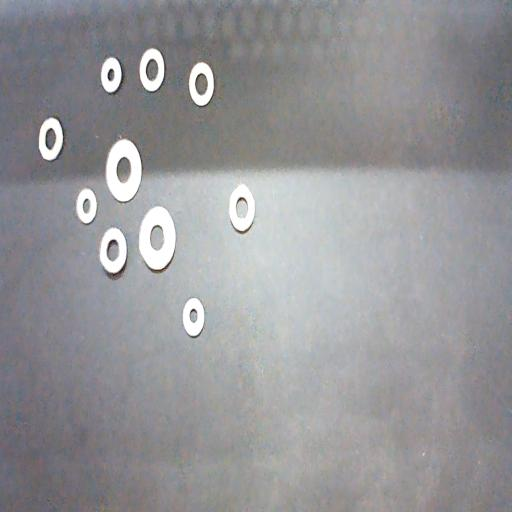washer: (139, 206, 176, 272), (106, 138, 142, 203), (99, 226, 127, 275), (229, 184, 255, 233), (189, 61, 215, 106), (38, 116, 64, 161), (140, 47, 164, 92), (183, 298, 205, 338), (76, 187, 97, 225), (100, 56, 121, 93)
